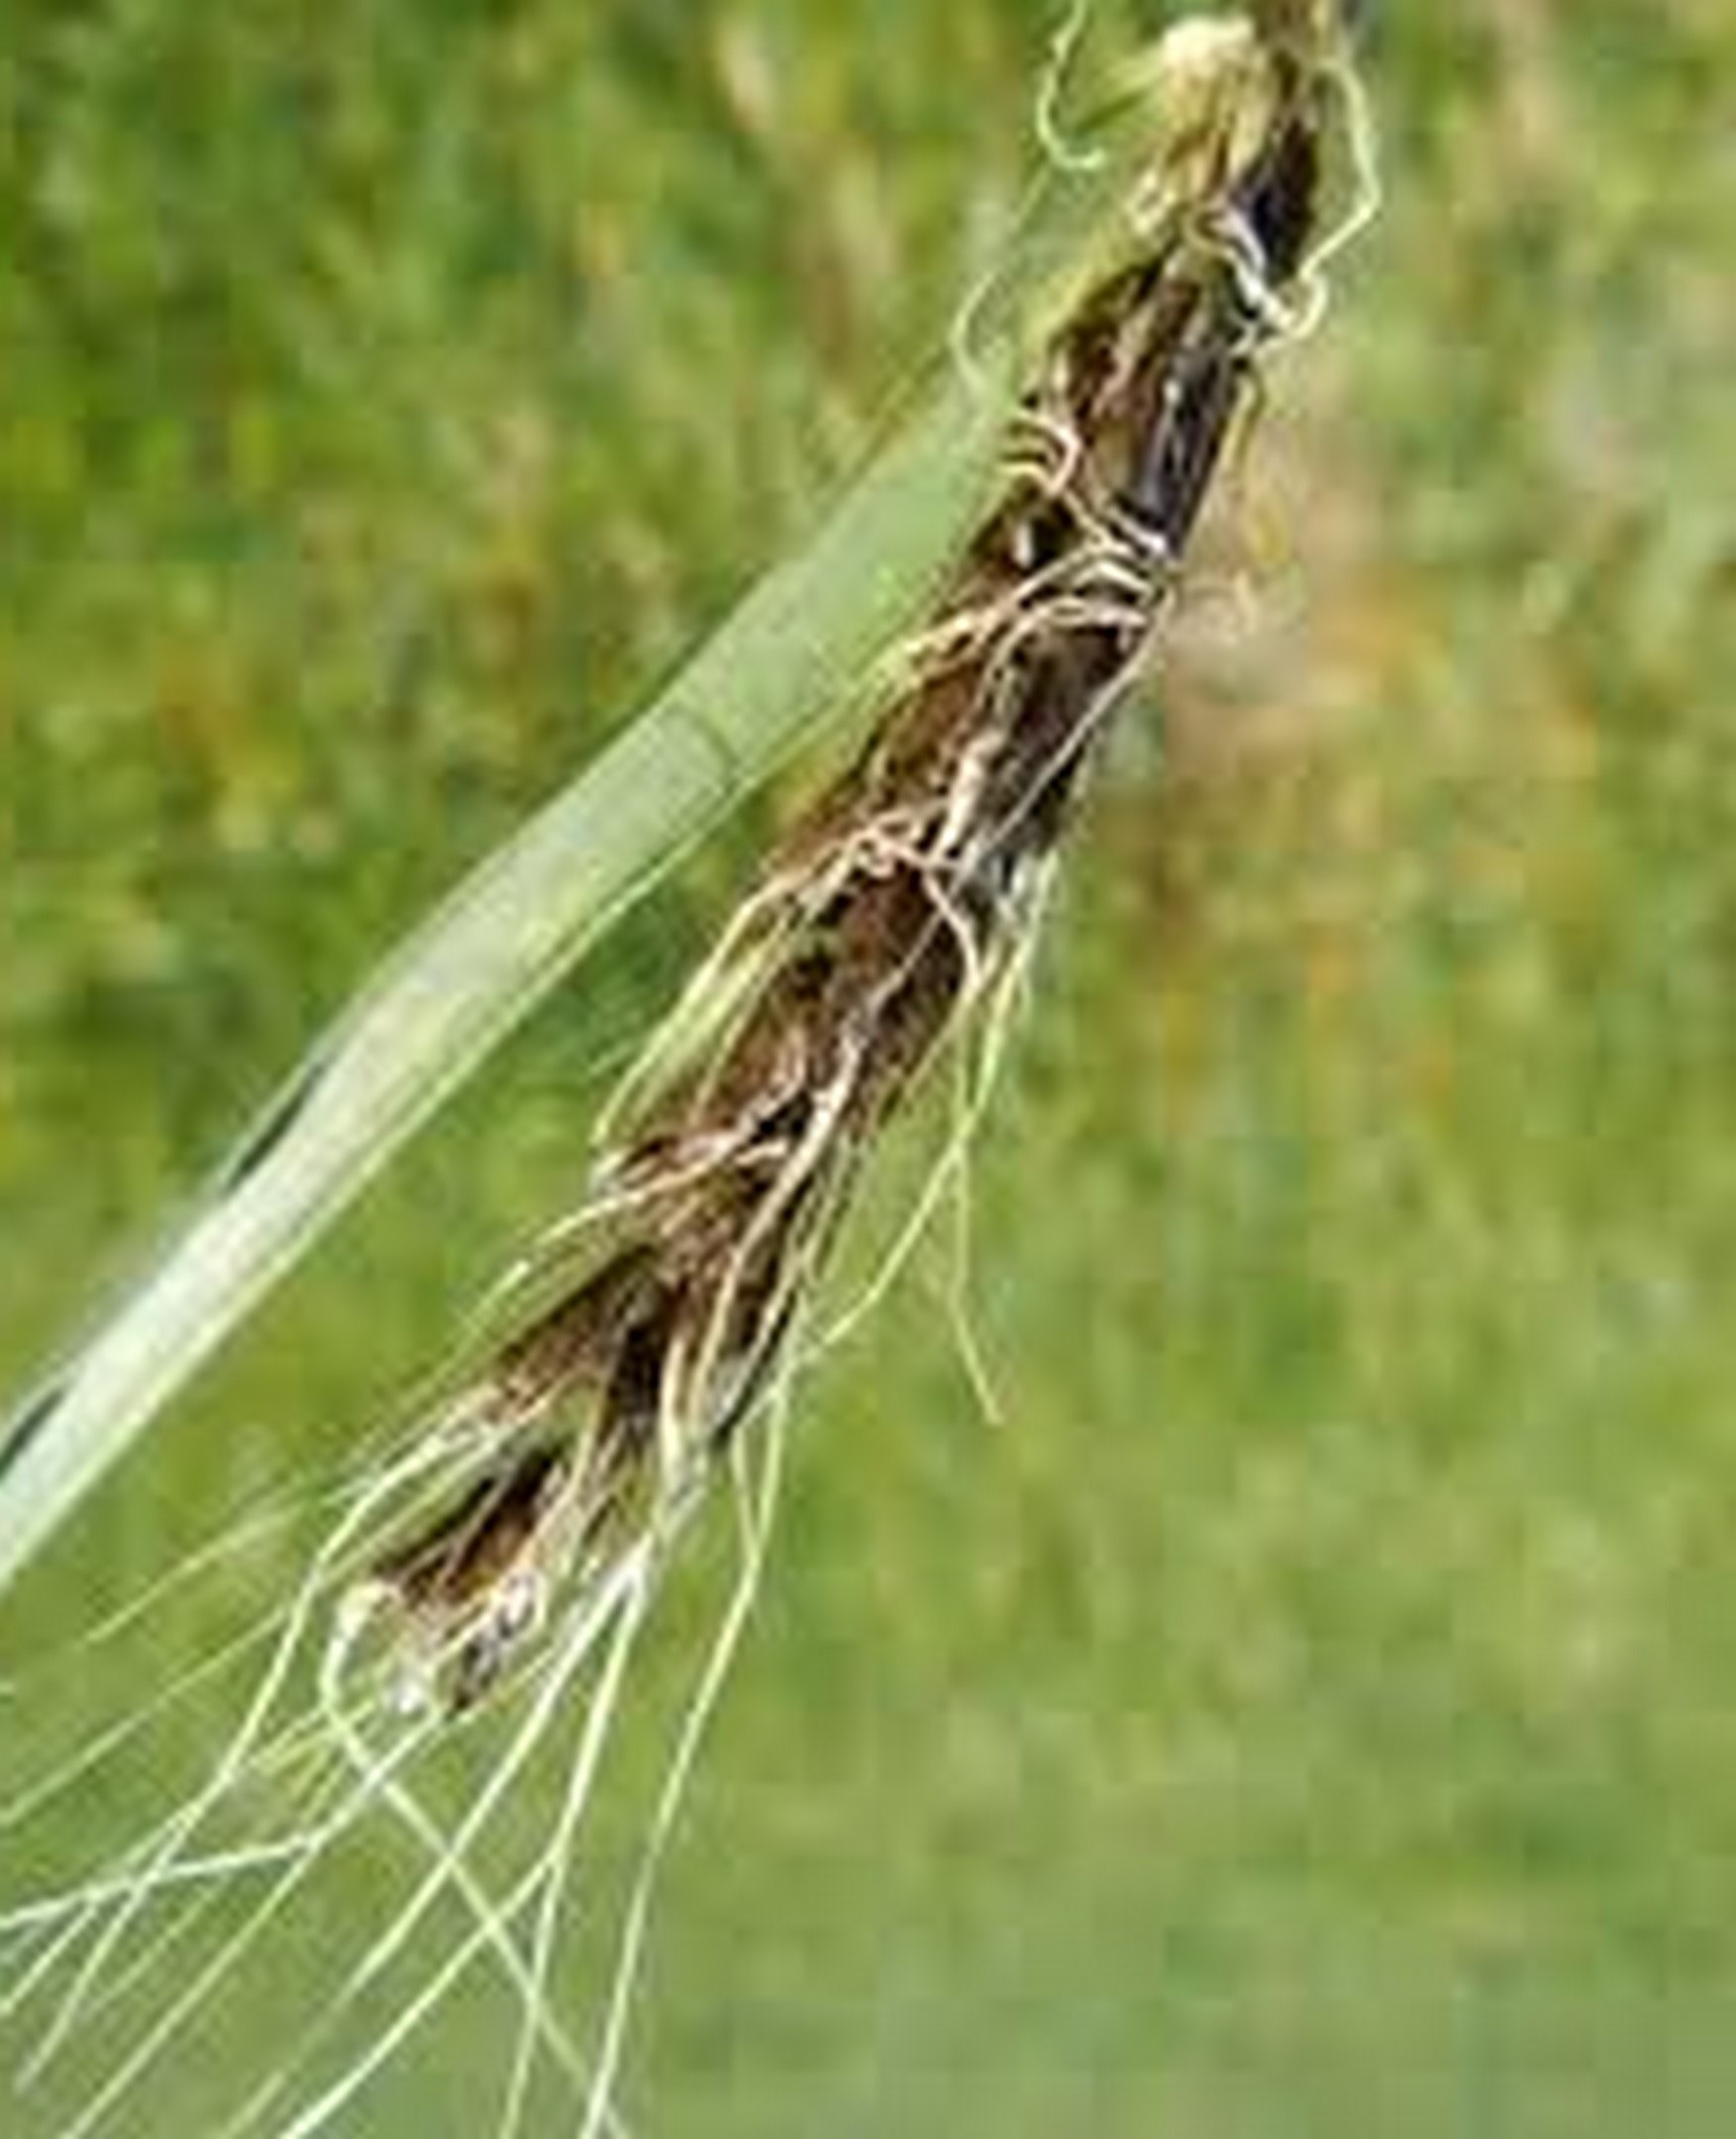Wheat Loose Smut: (345, 189, 1327, 1739)
